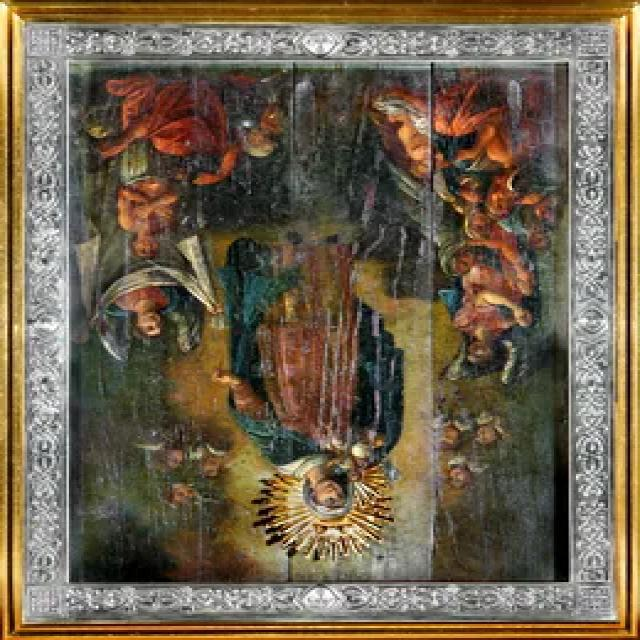mother of god: (224, 218, 412, 530)
